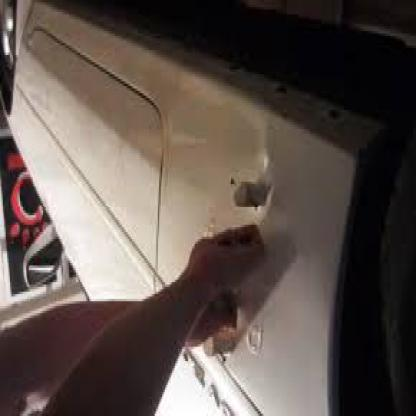dent: (225, 152, 281, 222)
